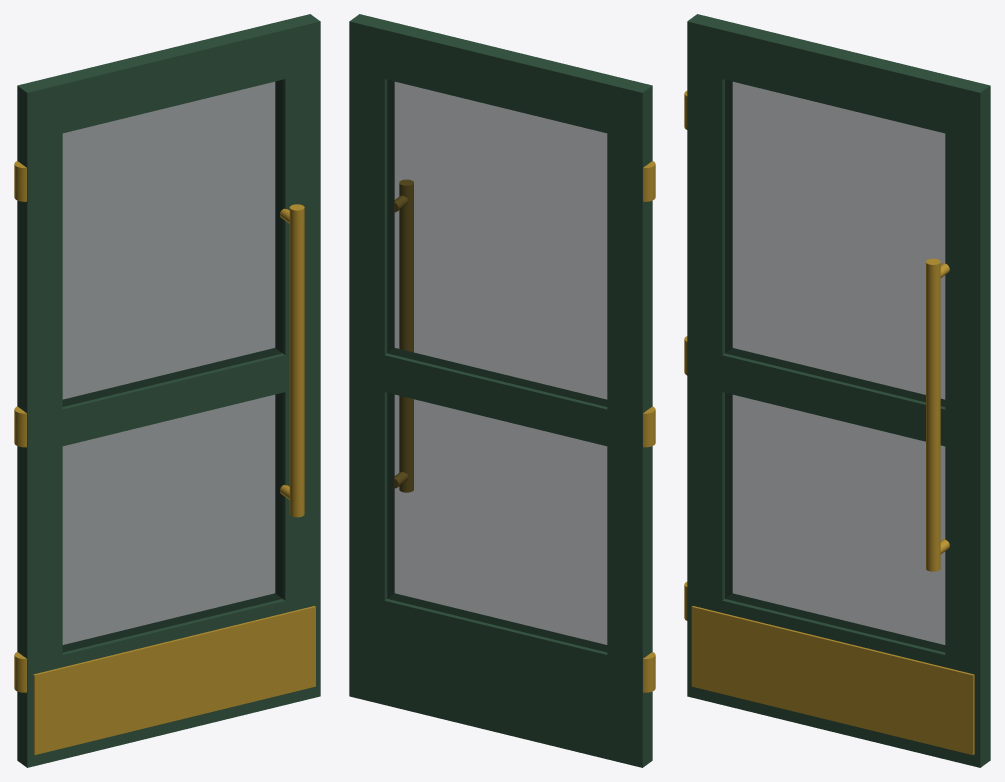
File: entrance-door.glb
3 renders of one model, left to right at view 1: azimuth 30°, elevation 25°; view 2: azimuth 150°, elevation 25°; view 3: azimuth 330°, elevation 25°, orthographic.
Visible parts, largest first — view 1: glass_upper, glass_lower, stile_hinge, kickplate, stile_lock, rail_top, rail_mid, rail_bottom, pull_bar; view 2: glass_upper, glass_lower, rail_bottom, stile_hinge, stile_lock, rail_top, rail_mid, pull_bar; view 3: glass_upper, glass_lower, stile_lock, stile_hinge, kickplate, rail_top, rail_mid, rail_bottom, pull_bar.
Part boxes in pixels (x1=…): glass_upper: x1=62, y1=80, x2=282, y2=406; glass_lower: x1=62, y1=393, x2=282, y2=652; stile_hinge: x1=17, y1=77, x2=62, y2=767; kickplate: x1=33, y1=606, x2=315, y2=755; stile_lock: x1=275, y1=14, x2=320, y2=704; rail_top: x1=17, y1=22, x2=320, y2=141; rail_mid: x1=17, y1=346, x2=320, y2=454; rail_bottom: x1=17, y1=592, x2=320, y2=767; pull_bar: x1=289, y1=204, x2=304, y2=517; glass_upper: x1=387, y1=80, x2=607, y2=406; glass_lower: x1=387, y1=393, x2=607, y2=652; rail_bottom: x1=349, y1=592, x2=652, y2=767; stile_hinge: x1=607, y1=77, x2=652, y2=767; stile_lock: x1=349, y1=14, x2=394, y2=704; rail_top: x1=349, y1=22, x2=652, y2=141; rail_mid: x1=349, y1=347, x2=650, y2=454; pull_bar: x1=399, y1=179, x2=413, y2=492; glass_upper: x1=725, y1=80, x2=945, y2=406; glass_lower: x1=725, y1=393, x2=945, y2=652; stile_lock: x1=945, y1=77, x2=990, y2=767; stile_hinge: x1=687, y1=14, x2=732, y2=704; kickplate: x1=691, y1=606, x2=974, y2=754; rail_top: x1=687, y1=21, x2=990, y2=141; rail_mid: x1=687, y1=346, x2=990, y2=454; rail_bottom: x1=687, y1=592, x2=990, y2=767; pull_bar: x1=926, y1=258, x2=940, y2=571.
Bounding box in the file's own units: 1.02 × 2.2 × 0.152.
